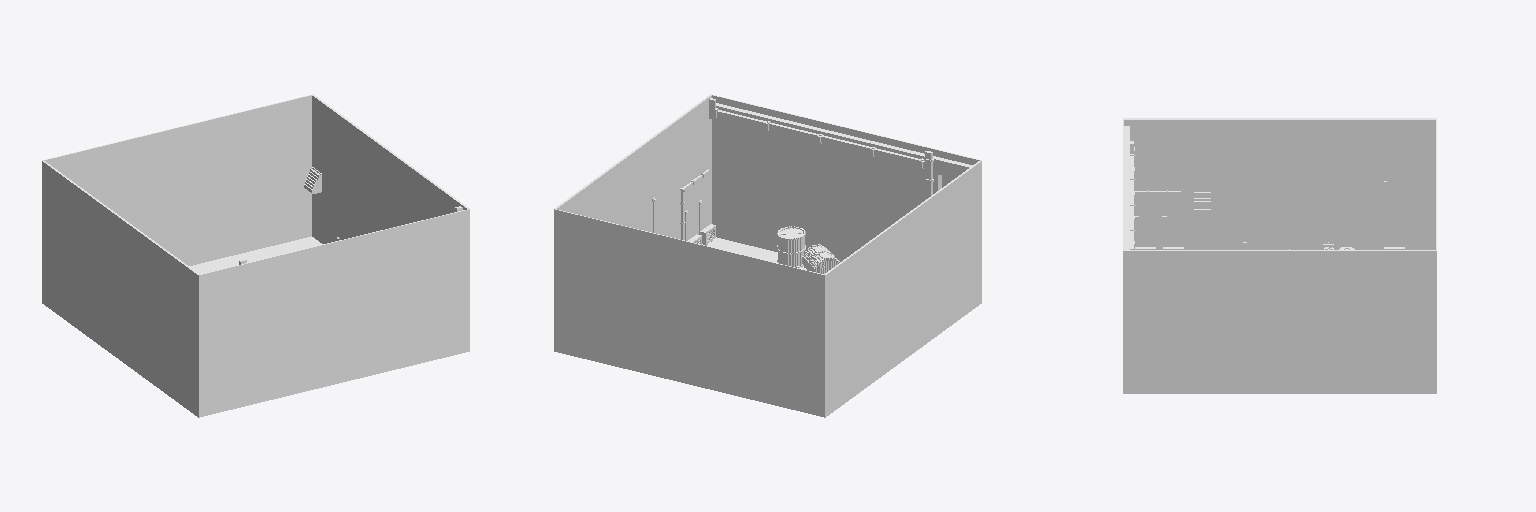
Rendered from stage1_all.obj.
The picture shows the model from 3 angles: view 1: azimuth 30°, elevation 25°; view 2: azimuth 150°, elevation 25°; view 3: azimuth 270°, elevation 25°; orthographic projection.
Parts seen in each view (by area): view 1: object 1; view 2: object 1; view 3: object 1.
Boxes of the visible parts, x1=… form: object 1: x1=42, y1=94, x2=469, y2=417; object 1: x1=554, y1=94, x2=981, y2=417; object 1: x1=1123, y1=118, x2=1436, y2=393.
Size of the model in its own units: 25.6 by 12.8 by 25.6.